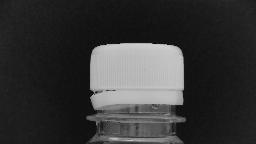Broken Ring: (87, 85, 125, 111)
